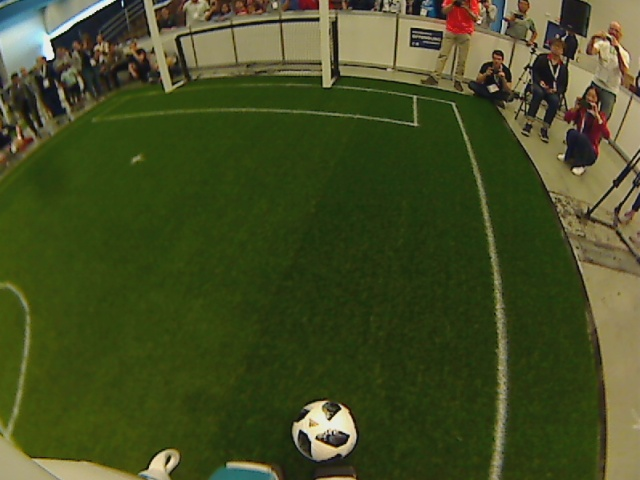ball: (288, 397, 359, 463)
